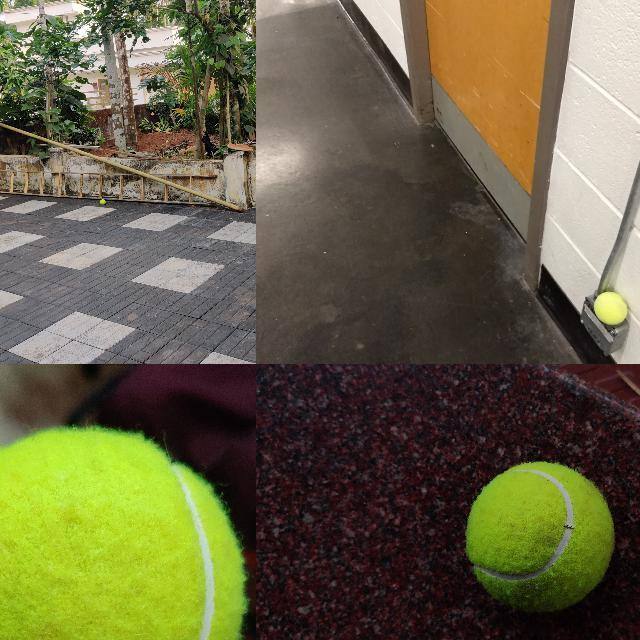tennis-ball: (0, 429, 243, 639), (466, 461, 615, 613), (593, 291, 628, 325), (99, 199, 105, 205)
